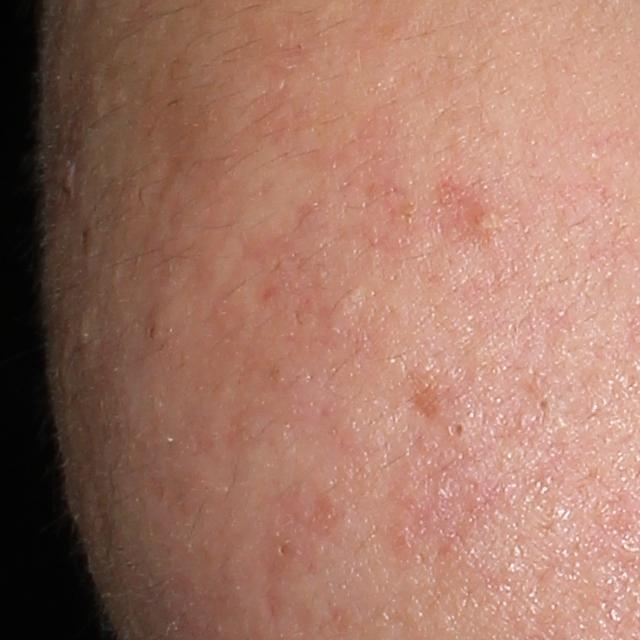comedo: (442, 412, 474, 448)
